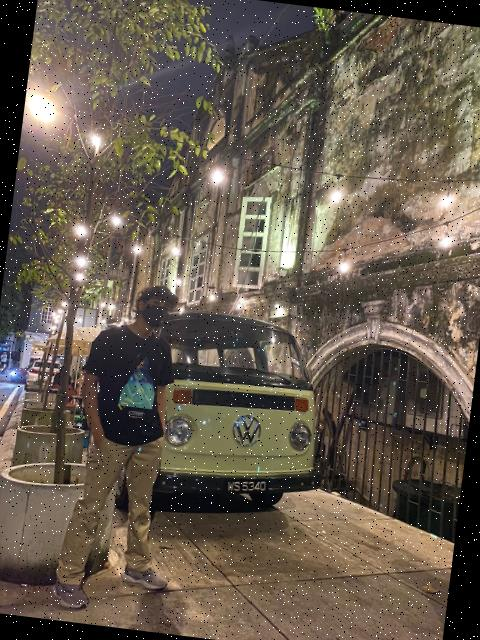License_Plate: (220, 472, 278, 505)
